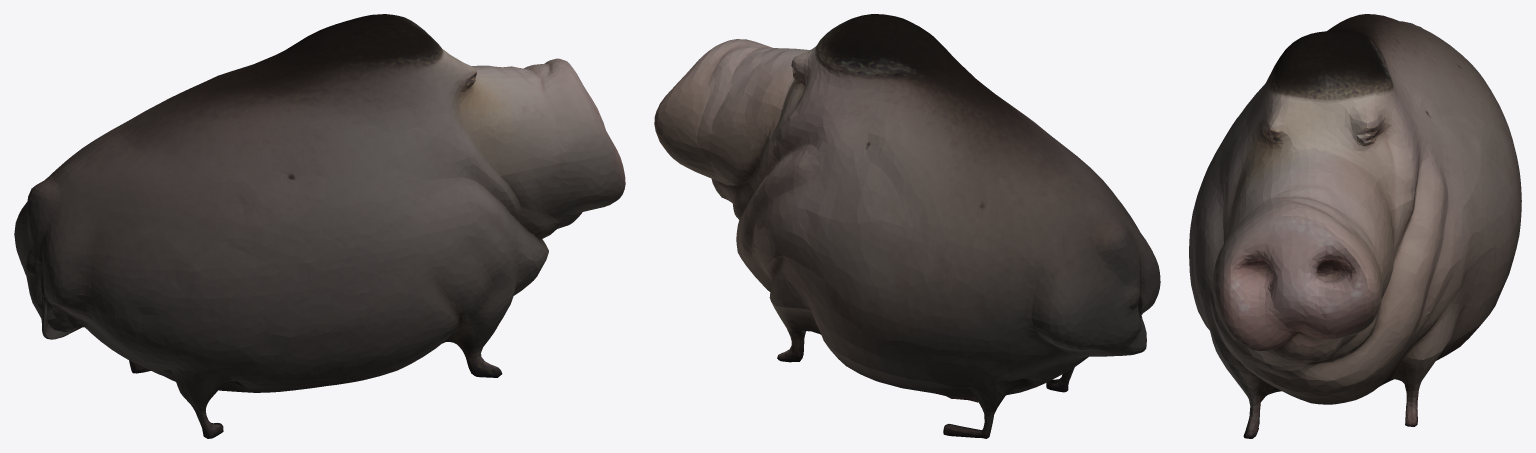
File: hryak.glb
The picture shows the model from 3 angles, left to right: view 1: azimuth 30°, elevation 25°; view 2: azimuth 150°, elevation 25°; view 3: azimuth 270°, elevation 25°; orthographic projection. The views are drawn at different scales.
Visible parts, largest first — view 1: world; view 2: world; view 3: world.
Part boxes in pixels (x1=…): world: x1=14, y1=14, x2=625, y2=438; world: x1=654, y1=14, x2=1160, y2=438; world: x1=1189, y1=14, x2=1521, y2=438.
Bounding box in the file's own units: 0.9989 × 0.6399 × 0.535.
1 material, 1 textured.
